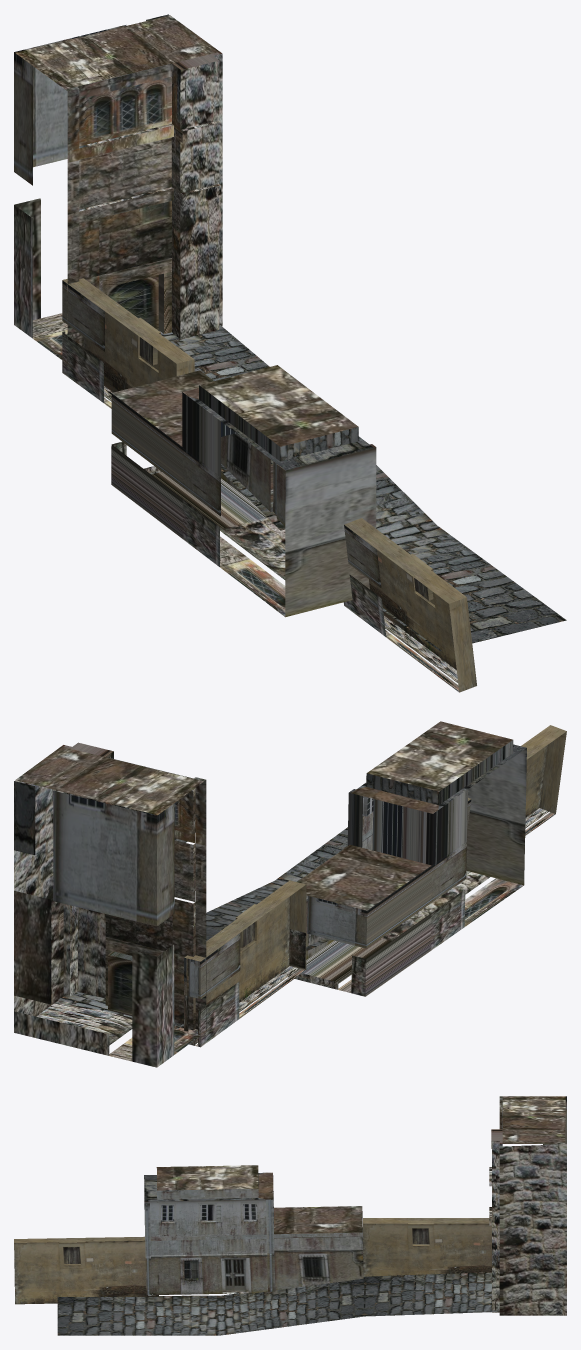
Rendered from Street2.fbx.
3 renders of one model, top to bottom at view 1: azimuth 30°, elevation 25°; view 2: azimuth 150°, elevation 25°; view 3: azimuth 270°, elevation 25°, orthographic. The views are drawn at different scales.
Visible parts, largest first — view 1: Cube.002, Cube, Plane, Cube.003, Cube.001; view 2: Cube.002, Cube, Cube.001, Cube.003, Plane; view 3: Cube, Plane, Cube.002, Cube.003, Cube.001.
Boxes of the visible parts, <box> form: Cube.002: <box>14,14,222,363</box>; Cube: <box>111,365,376,617</box>; Plane: <box>158,324,566,651</box>; Cube.003: <box>343,518,476,692</box>; Cube.001: <box>62,278,194,408</box>; Cube.002: <box>14,742,206,1067</box>; Cube: <box>288,721,526,996</box>; Cube.001: <box>184,880,306,1047</box>; Cube.003: <box>467,725,566,835</box>; Plane: <box>58,827,347,1028</box>; Cube: <box>144,1165,363,1295</box>; Plane: <box>57,1272,499,1335</box>; Cube.002: <box>489,1096,566,1315</box>; Cube.003: <box>14,1236,158,1304</box>; Cube.001: <box>363,1218,491,1276</box>.
Size of the model in its own units: 497 by 692 by 1718.
